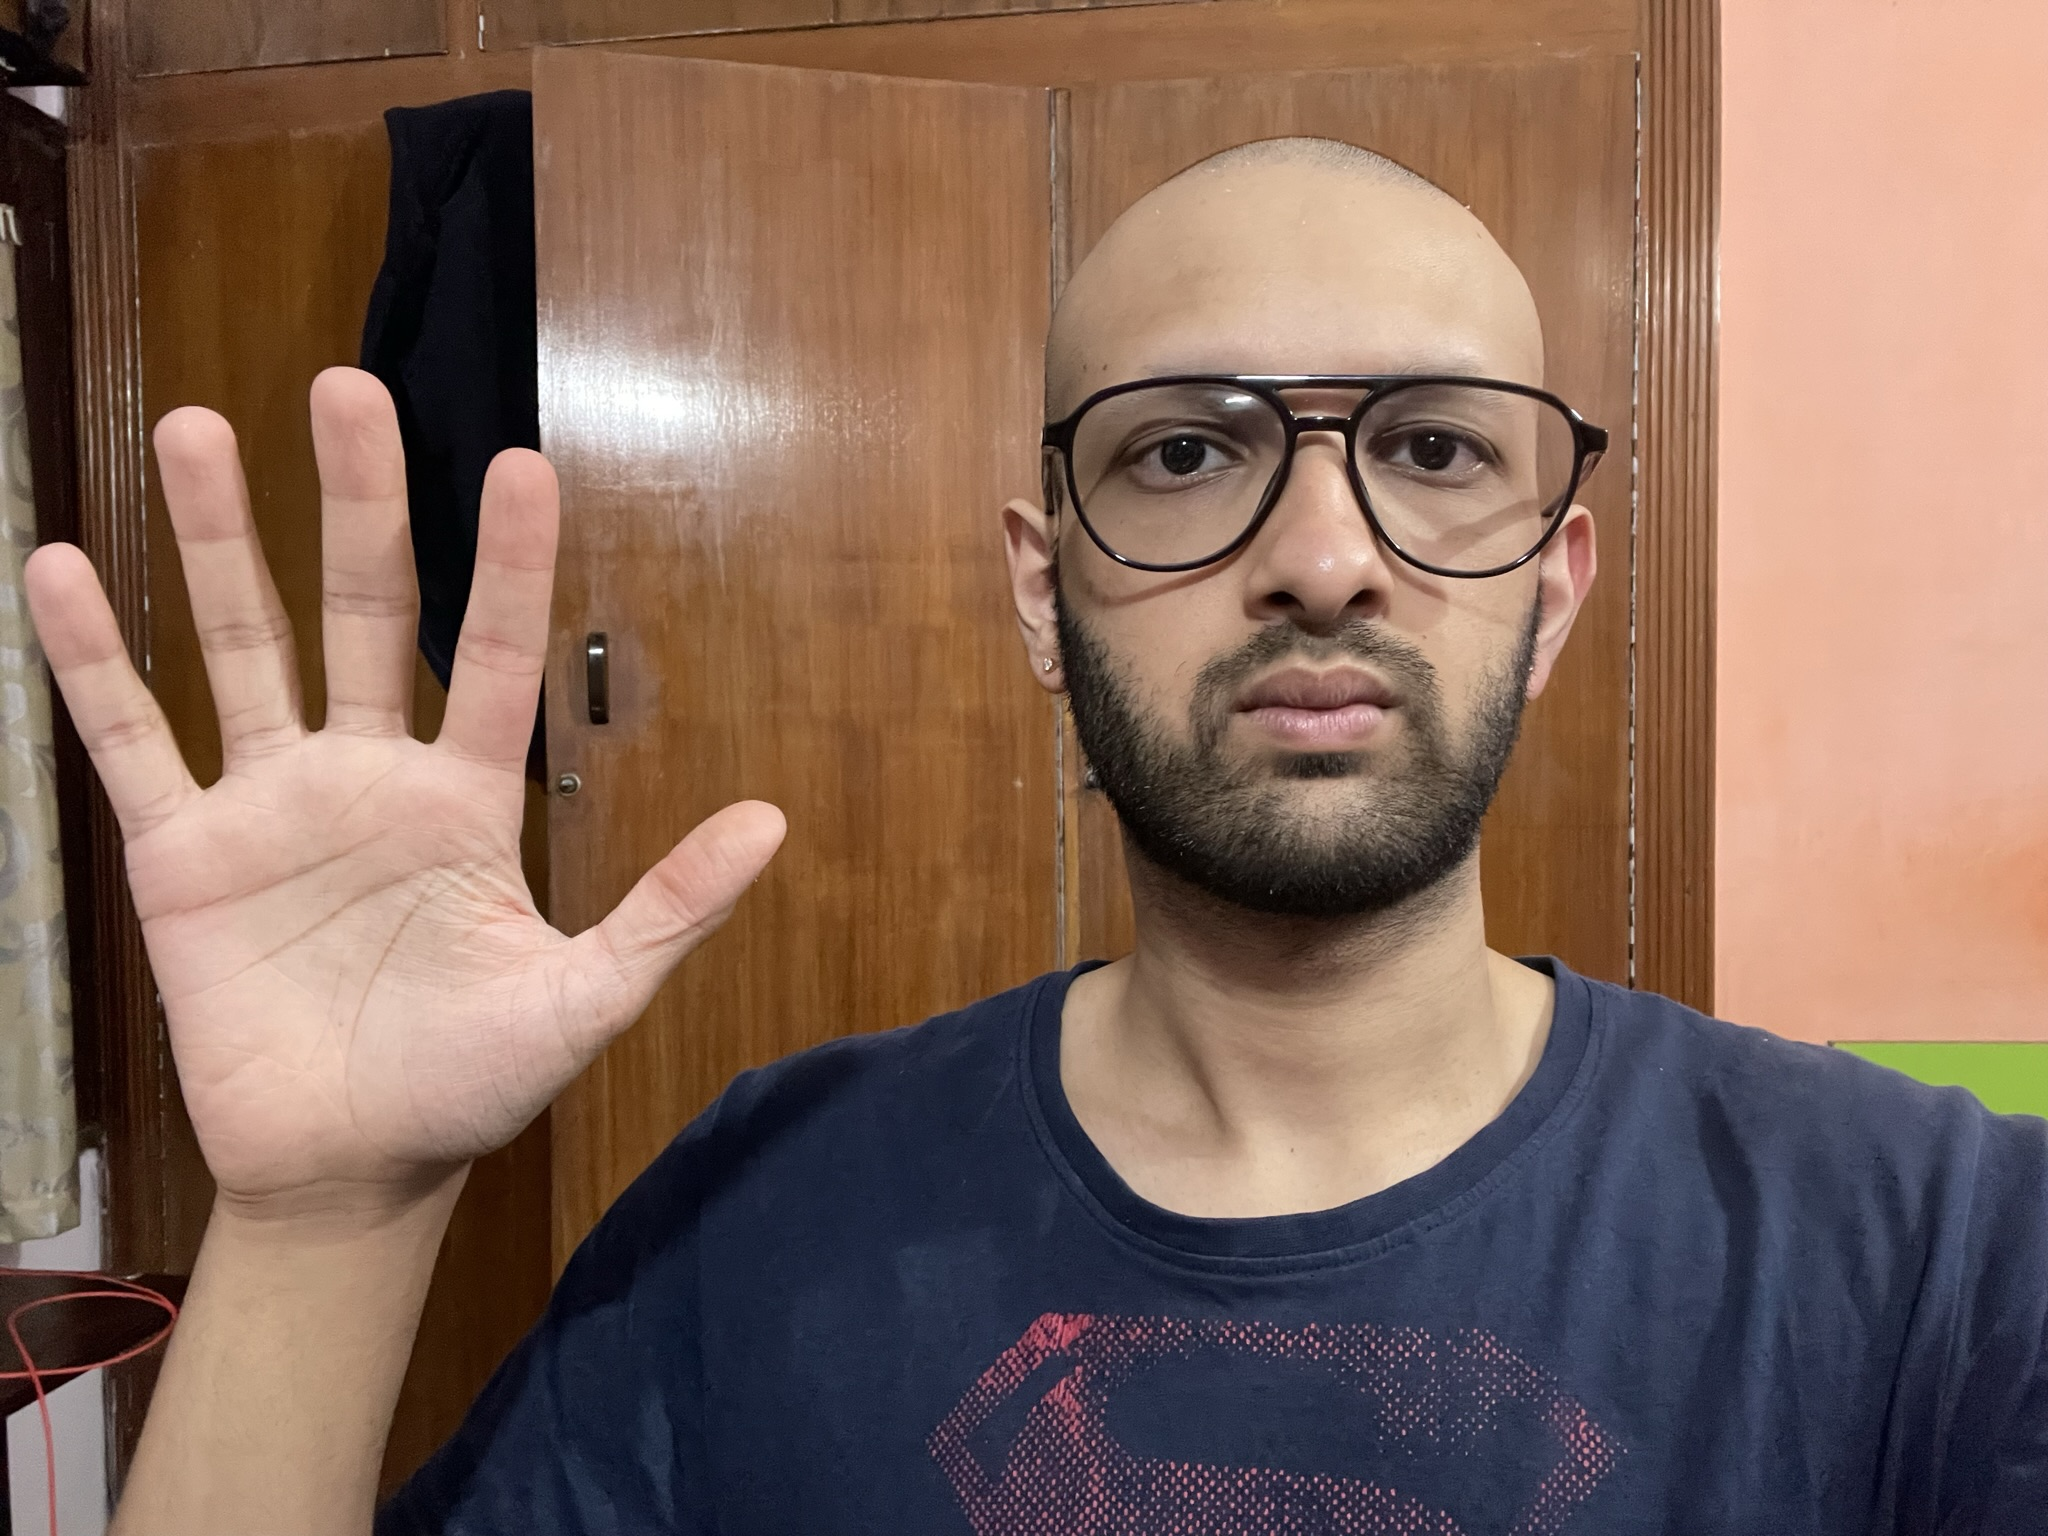Hello: (18, 352, 798, 1242)
